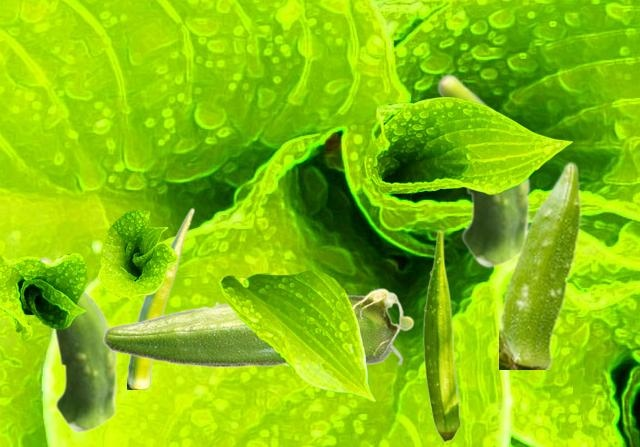okra: (102, 287, 413, 367), (436, 73, 531, 267), (499, 160, 581, 368), (39, 256, 118, 432), (127, 207, 193, 388), (423, 229, 460, 441)
